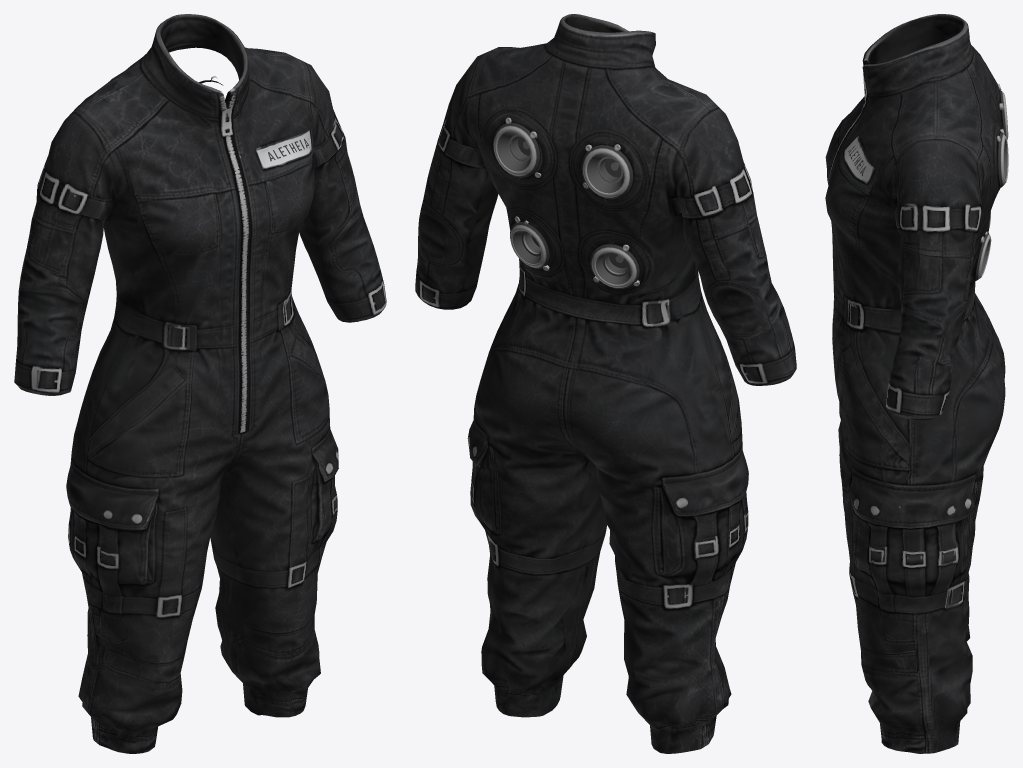
Rendered from aletheia_jumpsuit_low_v5_tucked.glb.
3 views of the same model, side by side, from view 1: azimuth 30°, elevation 25°; view 2: azimuth 150°, elevation 25°; view 3: azimuth 270°, elevation 25° (orthographic). The views are drawn at different scales.
Parts seen in each view (by area): view 1: jumpsuit_cloth; view 2: jumpsuit_cloth, port_upper_right, port_upper_left, port_lower_right, port_lower_left; view 3: jumpsuit_cloth, port_upper_left, port_lower_left.
Part boxes in pixels (<box>): jumpsuit_cloth: <box>14,14,386,753</box>; jumpsuit_cloth: <box>415,14,796,753</box>; port_upper_right: <box>581,144,633,199</box>; port_upper_left: <box>493,117,541,177</box>; port_lower_right: <box>590,243,640,288</box>; port_lower_left: <box>510,216,550,270</box>; jumpsuit_cloth: <box>825,14,1005,753</box>; port_upper_left: <box>997,129,1008,187</box>; port_lower_left: <box>973,231,991,280</box>.
Bounding box in the file's own units: 0.6341 × 1.14 × 0.2771.
1 material, 1 textured.
